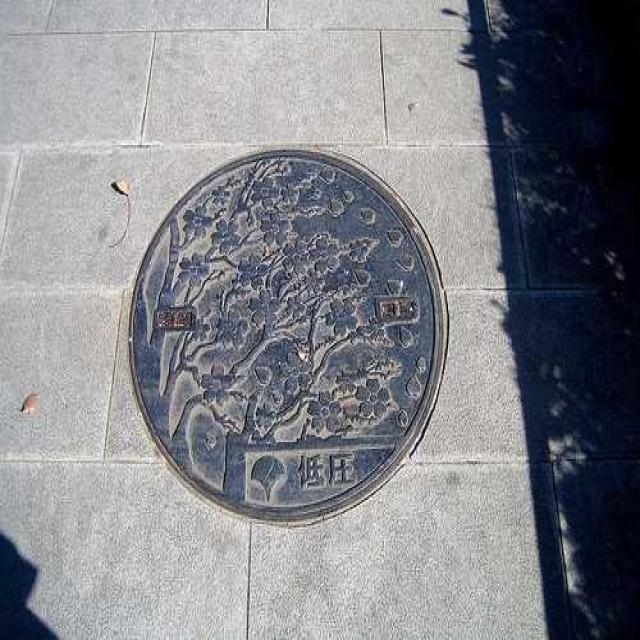manhole: (131, 150, 447, 521)
